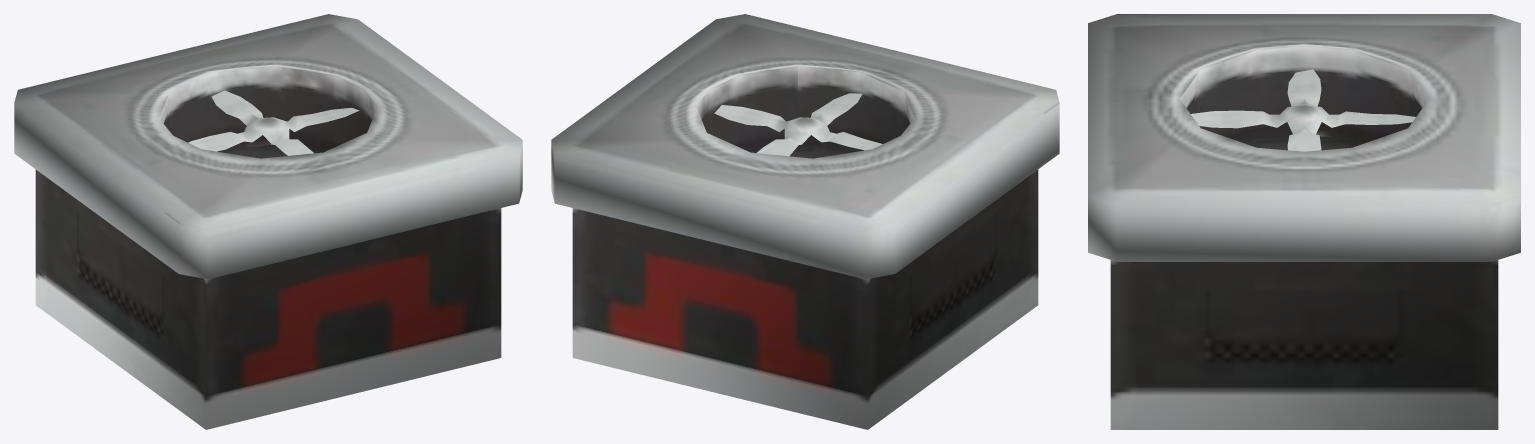
The model's file is Part - Extras 04-C5JJ9Sso.glb.
The picture shows the model from 3 angles, left to right: view 1: azimuth 30°, elevation 25°; view 2: azimuth 150°, elevation 25°; view 3: azimuth 270°, elevation 25°; orthographic projection. The views are drawn at different scales.
Parts seen in each view (by area): view 1: Extras_04, Extras_04_prop; view 2: Extras_04, Extras_04_prop; view 3: Extras_04, Extras_04_prop.
Part boxes in pixels (x1,y1,x2,y2): Extras_04: (14,14,522,429); Extras_04_prop: (188,90,359,155); Extras_04: (551,14,1059,429); Extras_04_prop: (714,93,882,156); Extras_04: (1088,14,1520,429); Extras_04_prop: (1191,69,1415,151).
Bounding box in the file's own units: 0.8941 × 0.5446 × 0.8574.
1 material, 1 textured.
